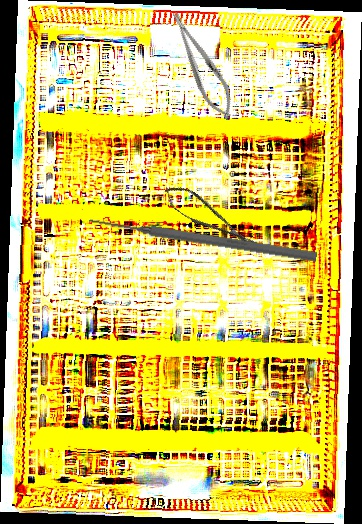Micro Scissor: (159, 177, 261, 260)
Needle Holder: (162, 6, 242, 124)
Pusher: (88, 213, 318, 264)
